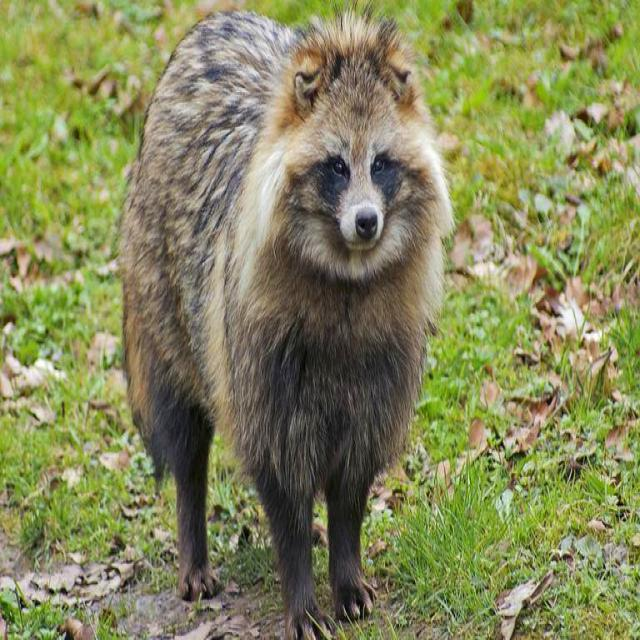raccoon: (119, 7, 452, 639)
